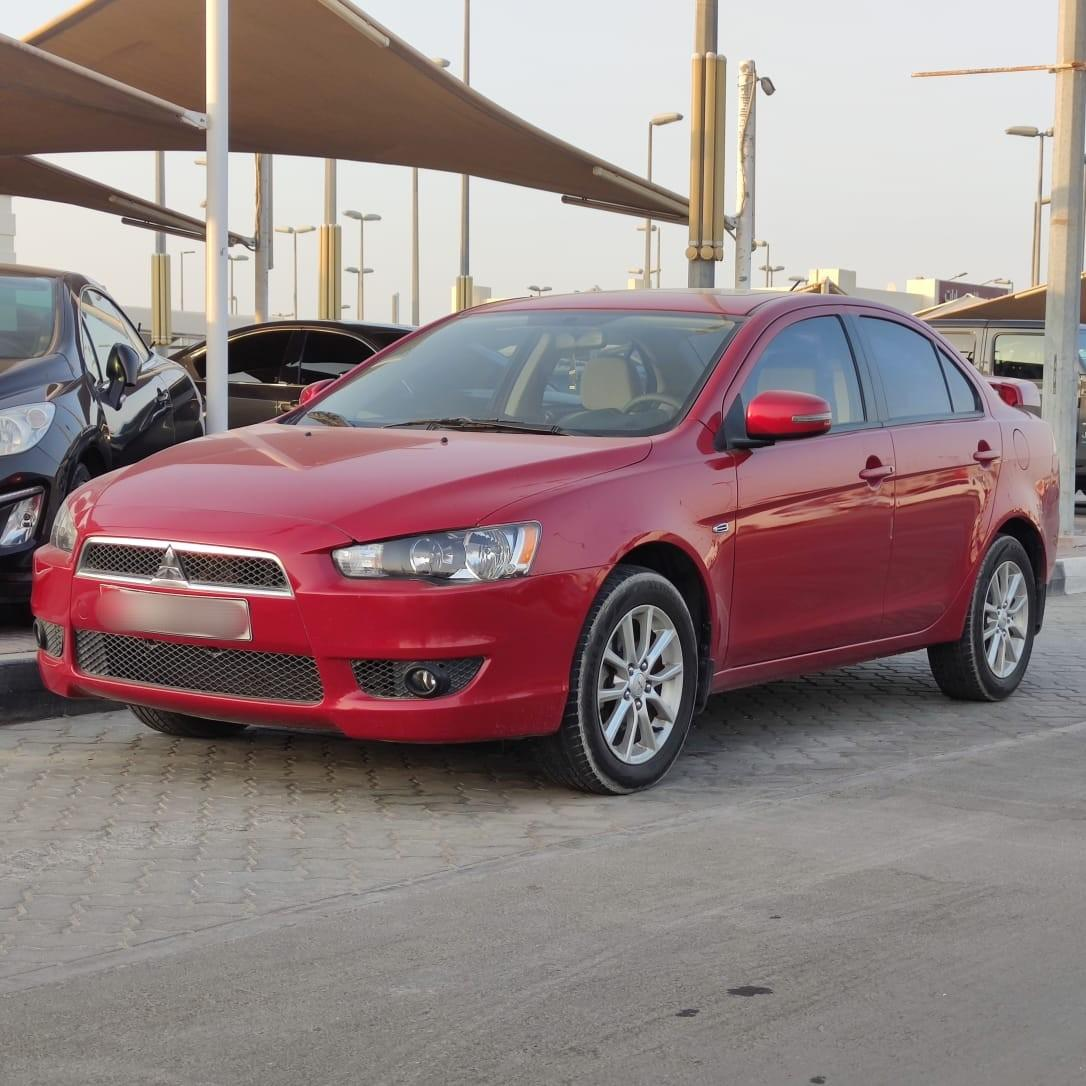Mitsubishi: (144, 530, 193, 600)
